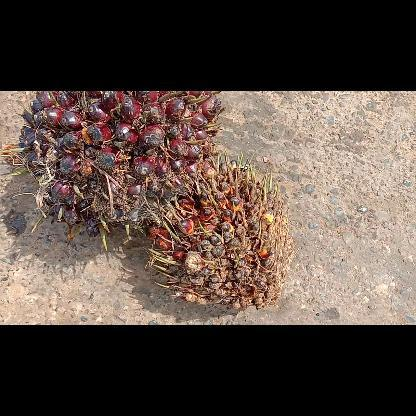Kurang masak: (0, 90, 220, 250)
TBS abnormal: (148, 150, 298, 308)
